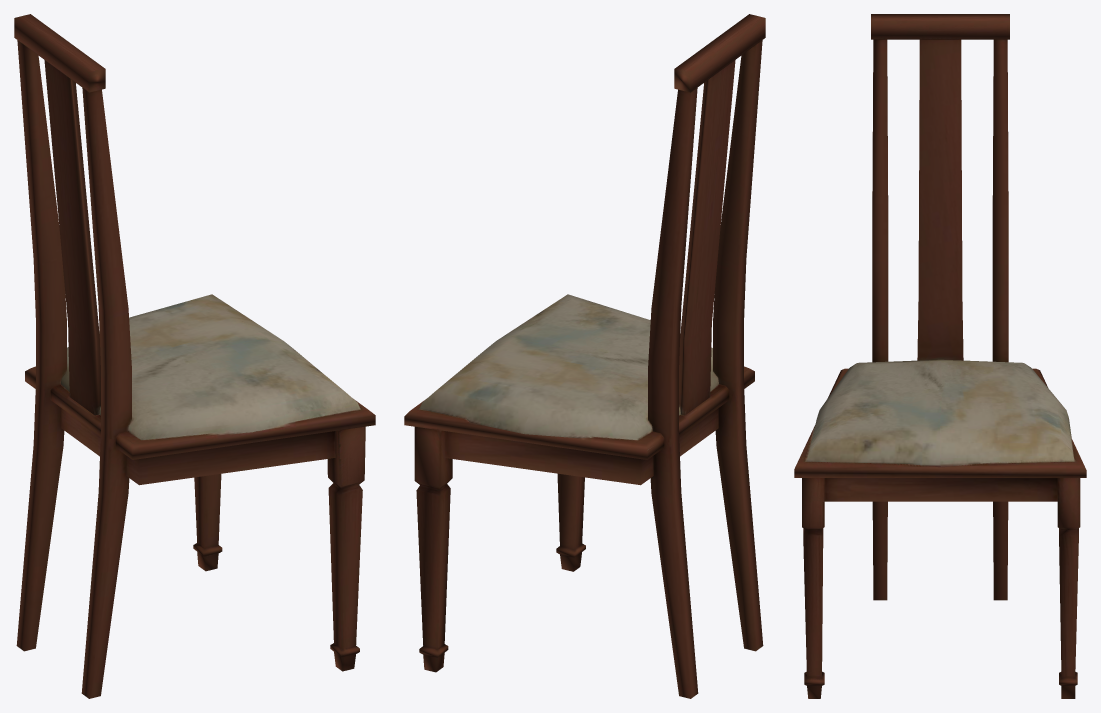
The model's file is Furn_Chair_Dining.glb.
The picture shows the model from 3 angles, left to right: view 1: azimuth 30°, elevation 25°; view 2: azimuth 150°, elevation 25°; view 3: azimuth 270°, elevation 25°; orthographic projection. The views are drawn at different scales.
Parts seen in each view (by area): view 1: tripo_node_c0d32fe2-a326-43c7-bef3-f5677c8f2864; view 2: tripo_node_c0d32fe2-a326-43c7-bef3-f5677c8f2864; view 3: tripo_node_c0d32fe2-a326-43c7-bef3-f5677c8f2864.
Boxes of the visible parts, x1,y1,x2,y2 form: tripo_node_c0d32fe2-a326-43c7-bef3-f5677c8f2864: (14,14,375,698); tripo_node_c0d32fe2-a326-43c7-bef3-f5677c8f2864: (404,14,765,698); tripo_node_c0d32fe2-a326-43c7-bef3-f5677c8f2864: (794,14,1086,698).
Size of the model in its own units: 0.409 by 1 by 0.456.
1 material, 1 textured.
